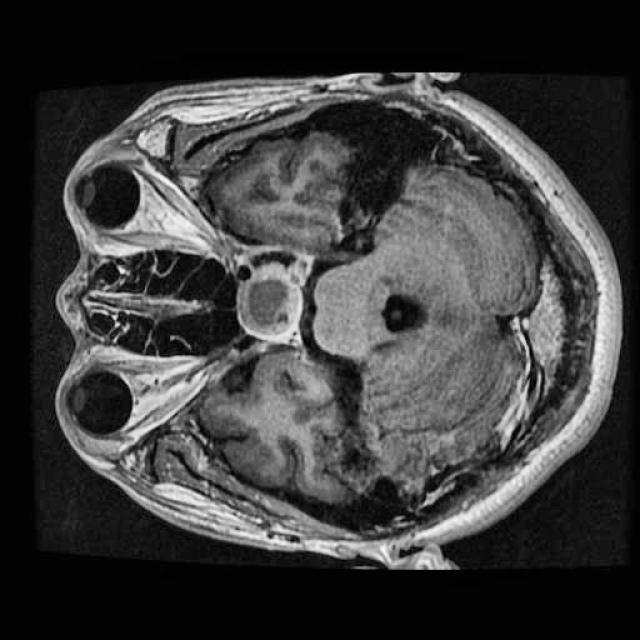Tumor: (226, 248, 318, 349)
